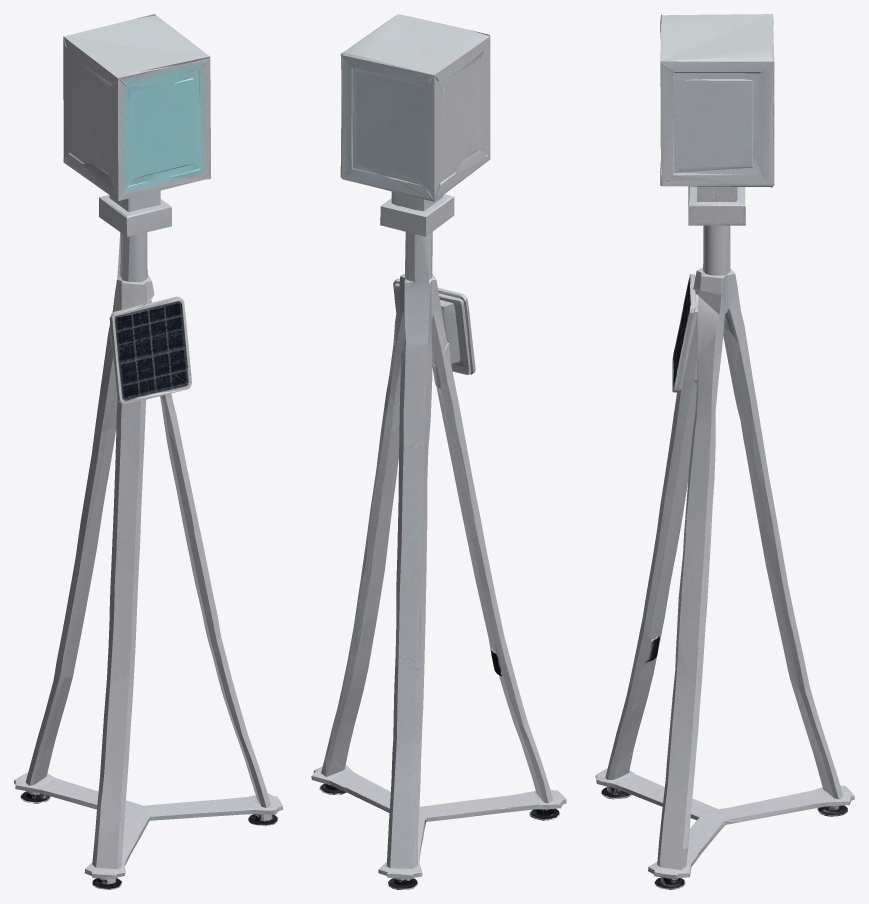
Rendered from beacon.glb.
3 views of the same model, side by side, from view 1: azimuth 30°, elevation 25°; view 2: azimuth 150°, elevation 25°; view 3: azimuth 270°, elevation 25° (orthographic).
Visible parts, largest first — view 1: mesh_node; view 2: mesh_node; view 3: mesh_node.
Boxes of the visible parts, x1=… form: mesh_node: x1=14, y1=14, x2=282, y2=889; mesh_node: x1=311, y1=14, x2=566, y2=889; mesh_node: x1=595, y1=14, x2=854, y2=889.
Size of the model in its own units: 0.5558 by 1.9 by 0.5616.
Materials: 1 (1 with a texture image).
